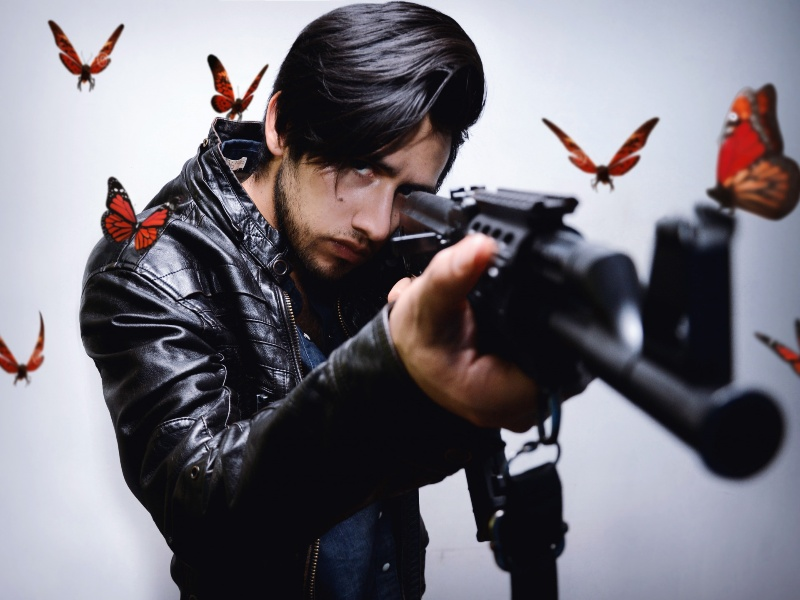person: (79, 2, 586, 600)
weapon: (392, 187, 788, 485)
